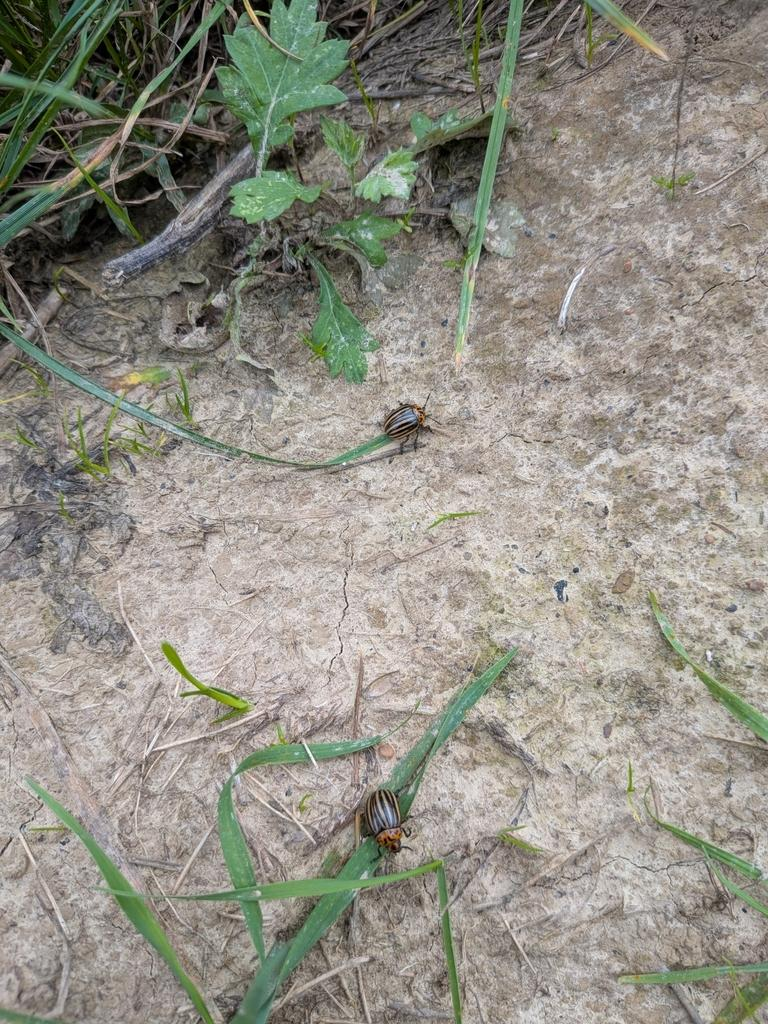potato_beetle: (365, 372, 456, 464), (347, 775, 426, 875)
